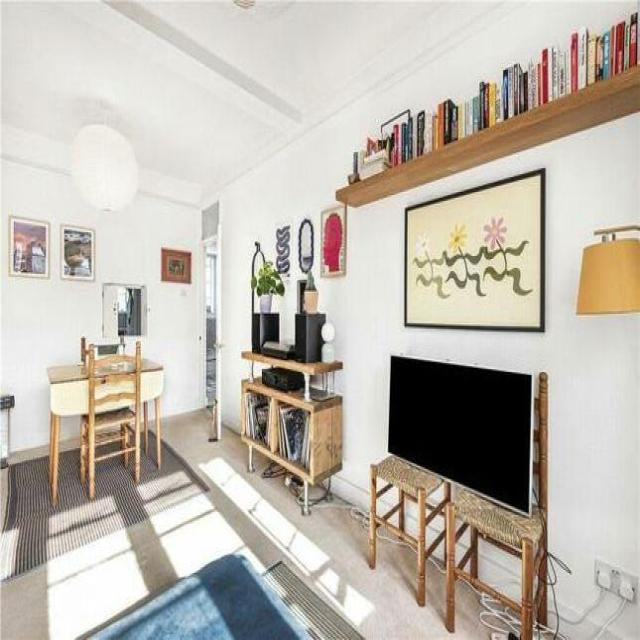Wall: (220, 0, 640, 613), (3, 0, 515, 200), (0, 412, 447, 639), (0, 197, 200, 449), (4, 165, 98, 233), (561, 593, 622, 639), (459, 585, 489, 639), (602, 602, 640, 638)
